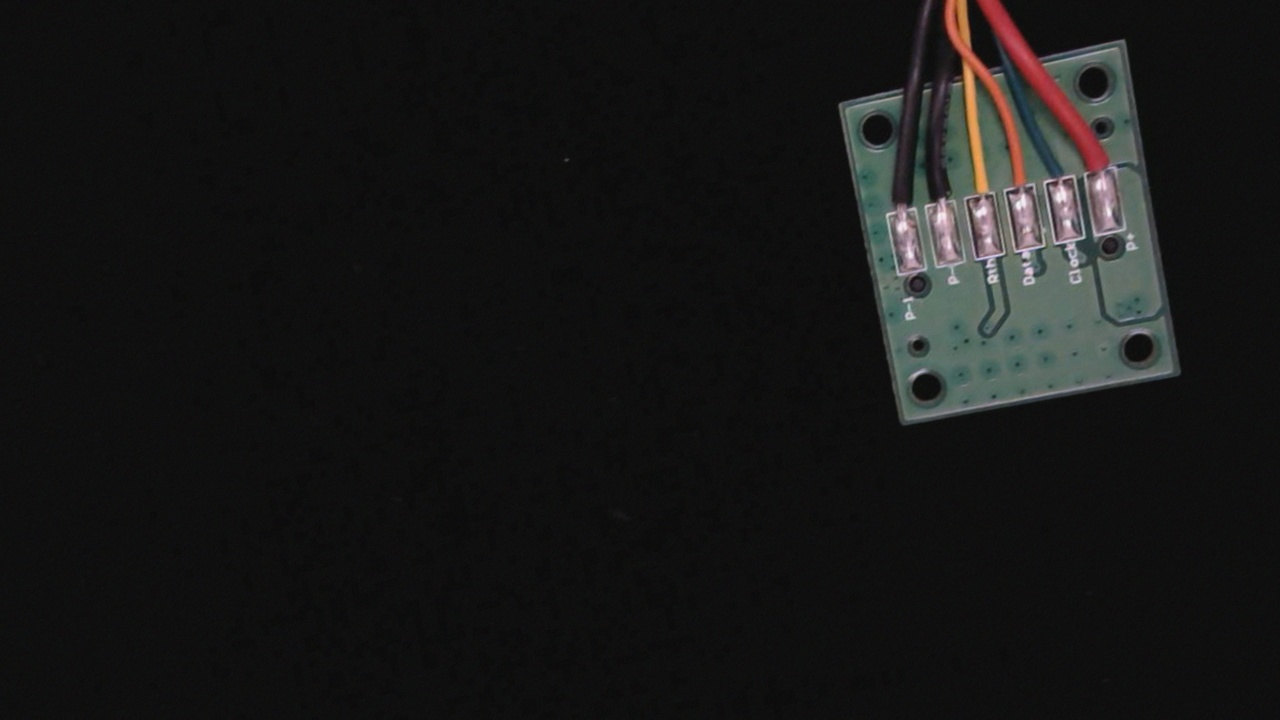Black: (916, 156, 958, 222)
Black1: (874, 162, 919, 234)
Green: (1030, 127, 1078, 202)
Orange: (992, 132, 1038, 209)
Red: (1073, 116, 1119, 192)
Yellow: (952, 135, 999, 214)
